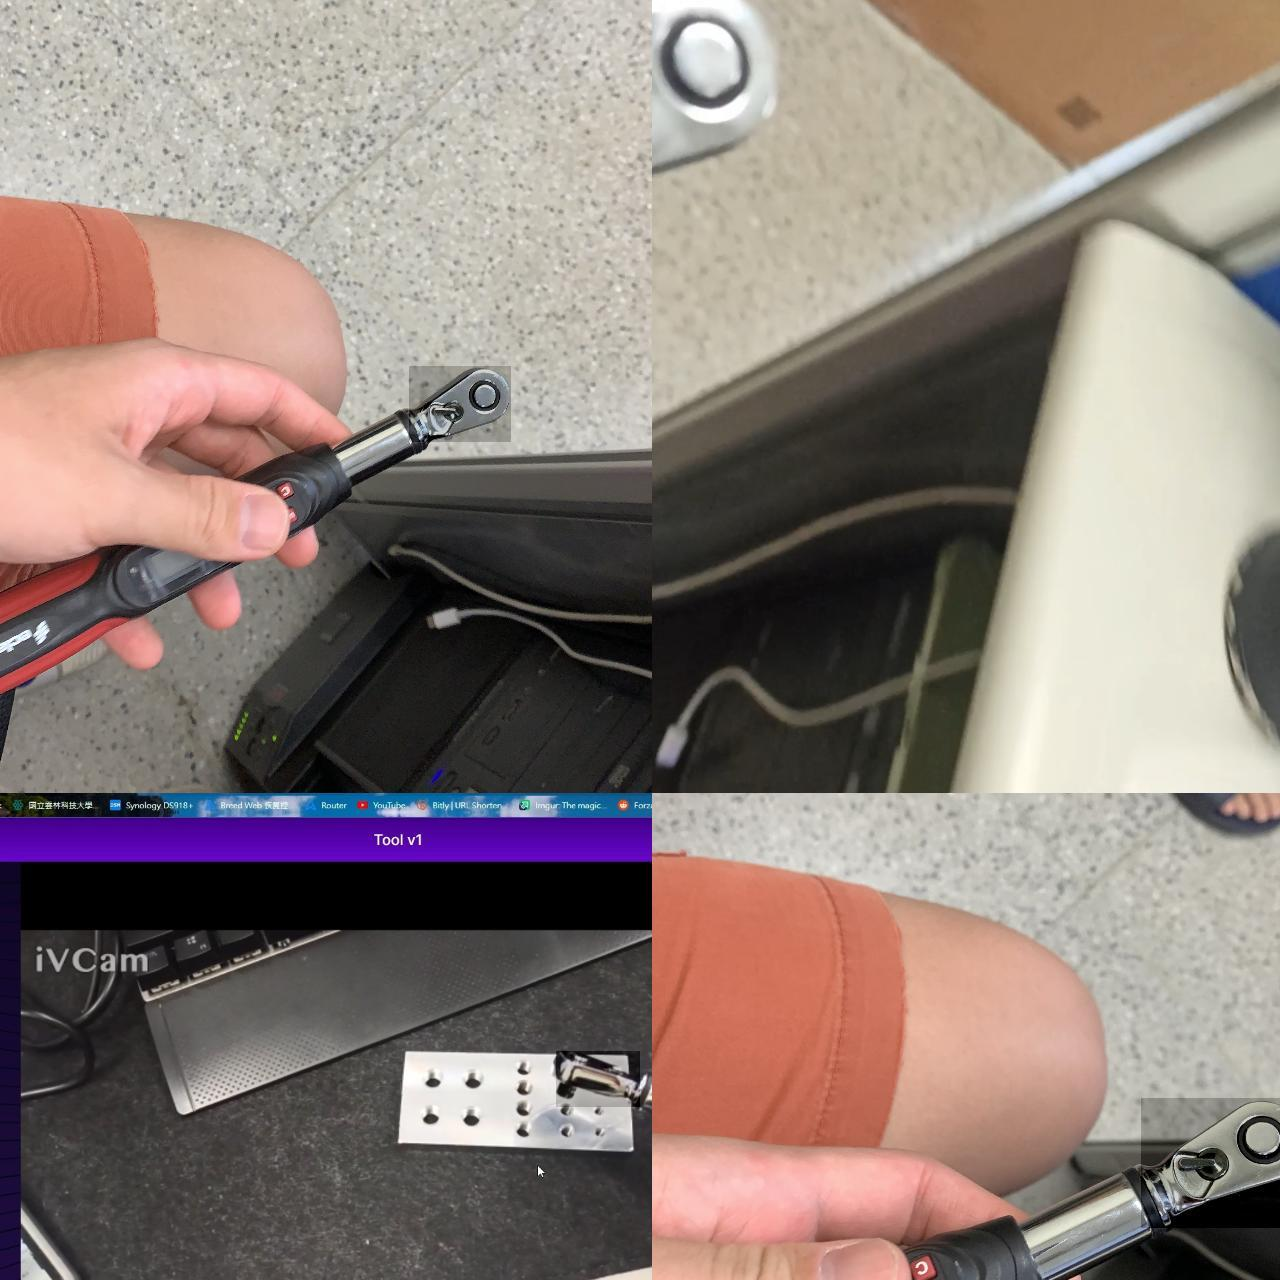Tool: (1141, 1097, 1280, 1227), (408, 365, 510, 441), (554, 1050, 639, 1107)
hole: (463, 1063, 485, 1094), (421, 1102, 442, 1128), (423, 1069, 444, 1094), (462, 1105, 482, 1130), (559, 1101, 578, 1119), (512, 1081, 537, 1095), (513, 1102, 535, 1117), (516, 1122, 532, 1139), (516, 1061, 532, 1076), (561, 1125, 576, 1139), (590, 1107, 607, 1117), (593, 1125, 605, 1137)
